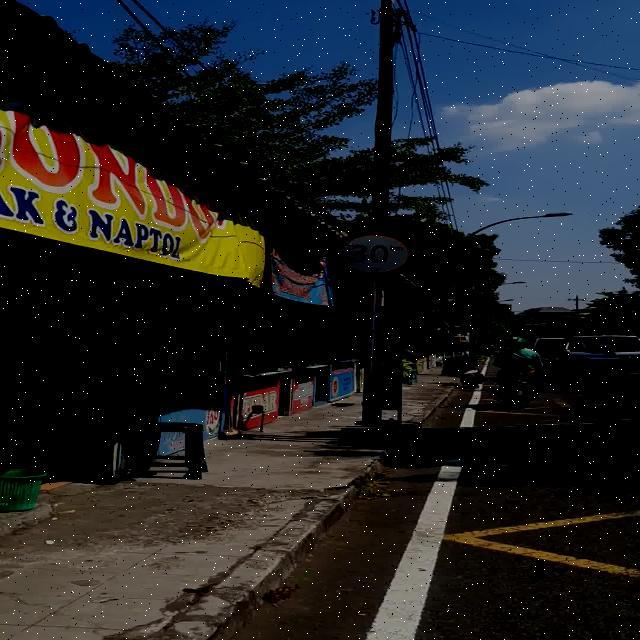Kecepatan Maks. 30 km: (334, 230, 416, 276)
